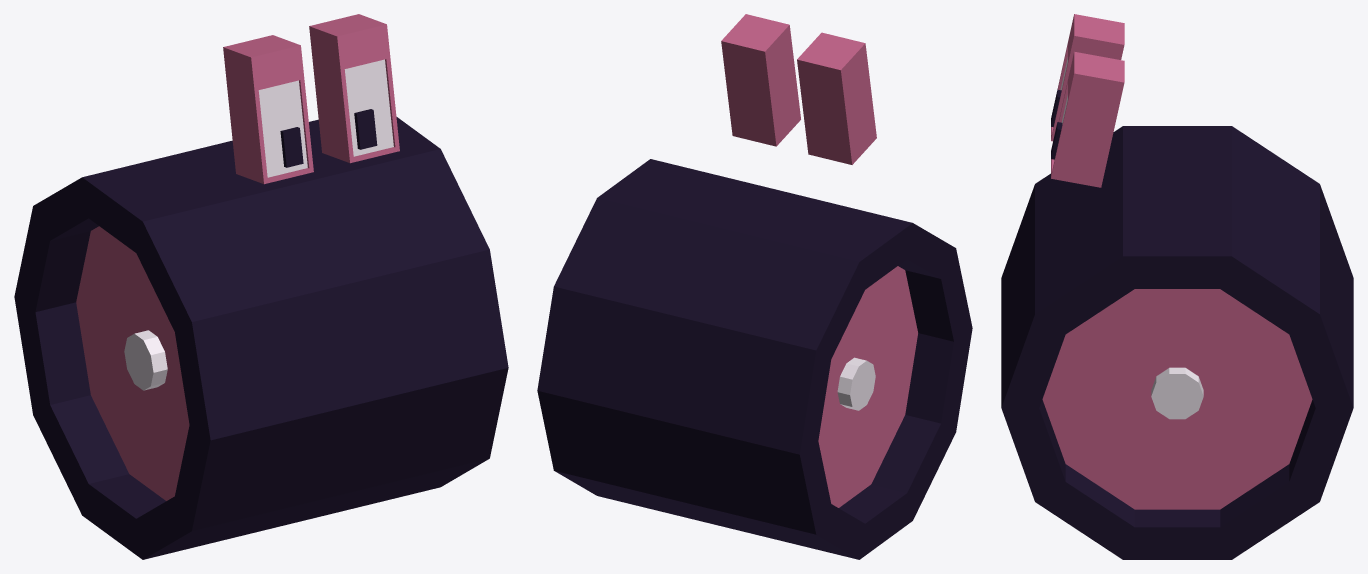
3 views of the same model, side by side, from view 1: azimuth 30°, elevation 25°; view 2: azimuth 150°, elevation 25°; view 3: azimuth 270°, elevation 25° (orthographic). The views are drawn at different scales.
Visible parts, largest first — view 1: Cylinder, Eyes; view 2: Cylinder, Eyes; view 3: Cylinder, Eyes.
Part boxes in pixels (<box>): Cylinder: <box>14,116,508,559</box>; Eyes: <box>223,14,399,184</box>; Cylinder: <box>537,159,972,559</box>; Eyes: <box>721,14,876,164</box>; Cylinder: <box>1001,126,1353,559</box>; Eyes: <box>1051,14,1124,187</box>.
Bounding box in the file's own units: 139 × 122 × 197.
